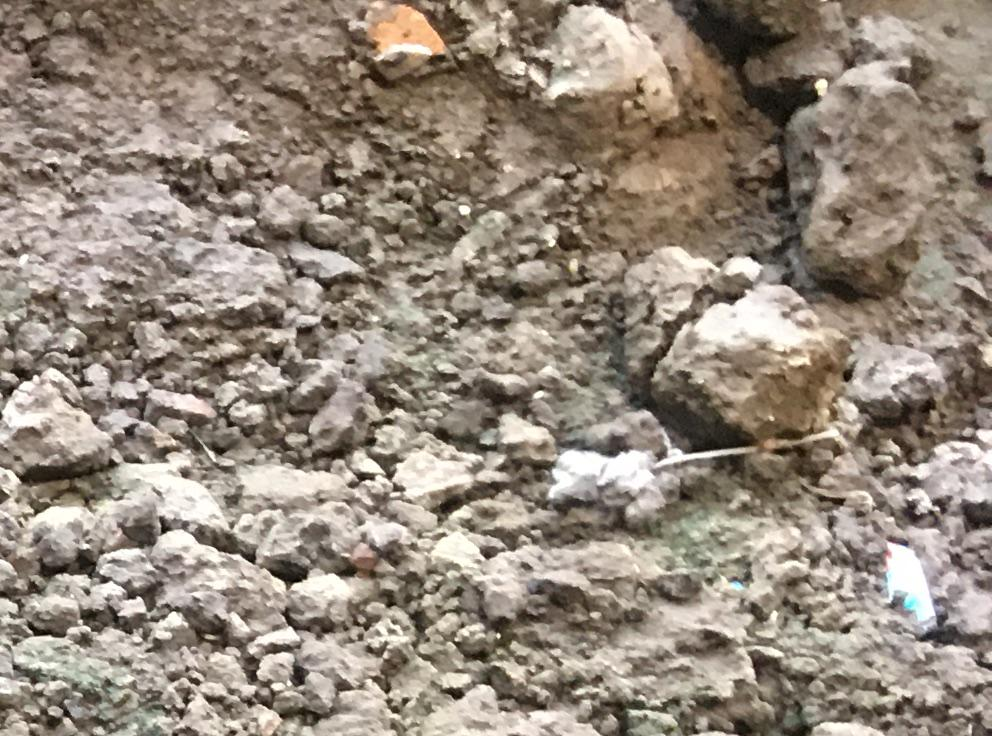block: (642, 280, 844, 447), (789, 66, 929, 294)
